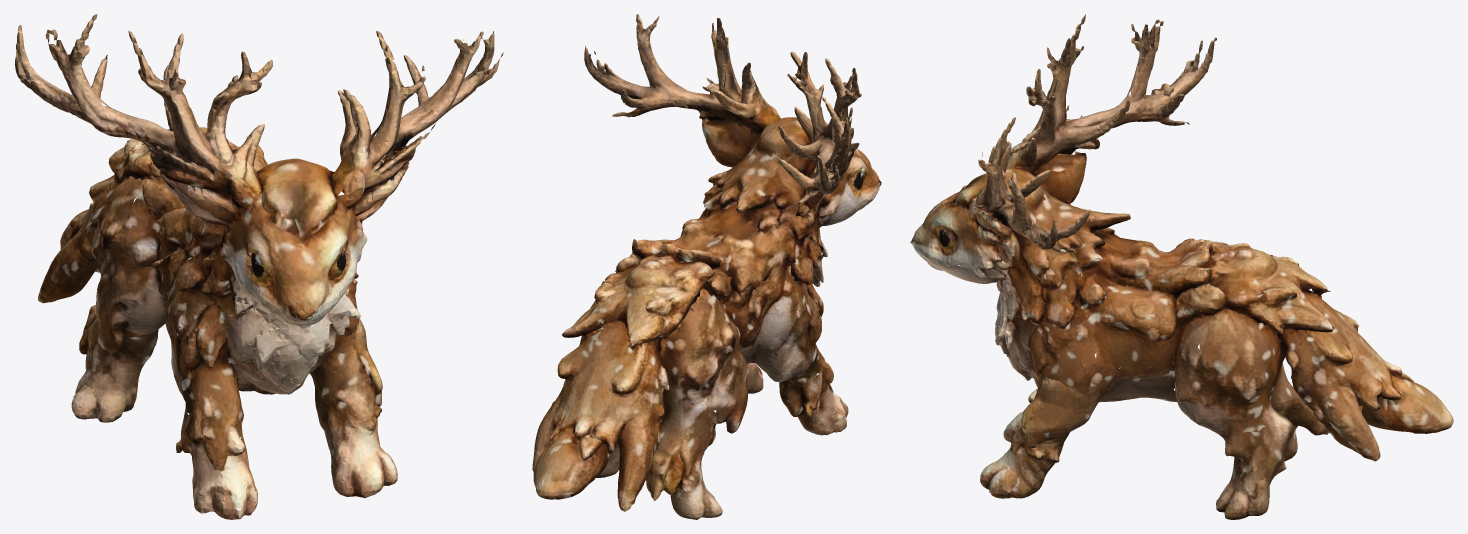
File: sylvorn_evo.glb
3 renders of one model, left to right at view 1: azimuth 30°, elevation 25°; view 2: azimuth 150°, elevation 25°; view 3: azimuth 270°, elevation 25°, orthographic. The views are drawn at different scales.
Parts seen in each view (by area): view 1: plush; view 2: plush; view 3: plush.
Boxes of the visible parts, box(x1,y1,x2,y2) form: plush: box(15, 14, 503, 519); plush: box(532, 14, 881, 519); plush: box(910, 14, 1453, 519).
Bounding box in the file's own units: 0.6953 × 0.8151 × 0.9796.
Materials: 1 (1 with a texture image).
